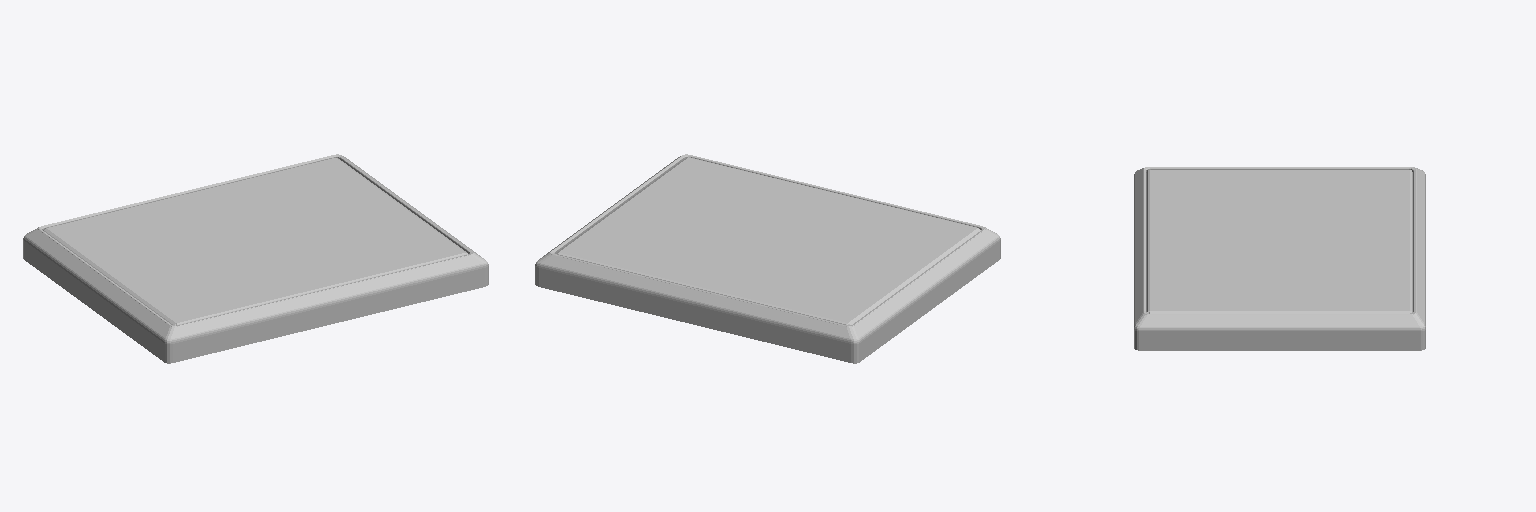
Rendered from table.orig.obj.
3 views of the same model, side by side, from view 1: azimuth 30°, elevation 25°; view 2: azimuth 150°, elevation 25°; view 3: azimuth 270°, elevation 25° (orthographic).
Parts seen in each view (by area): view 1: Cube.001; view 2: Cube.001; view 3: Cube.001.
Part boxes in pixels (x1,y1,x2,y2): Cube.001: (23,154,488,363); Cube.001: (535,154,1000,363); Cube.001: (1134,167,1425,350).
Bounding box in the file's own units: 117 × 10.88 × 91.72.